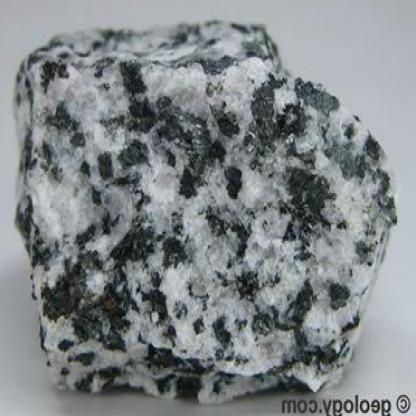Igneous_Diorite: (13, 18, 404, 399)
